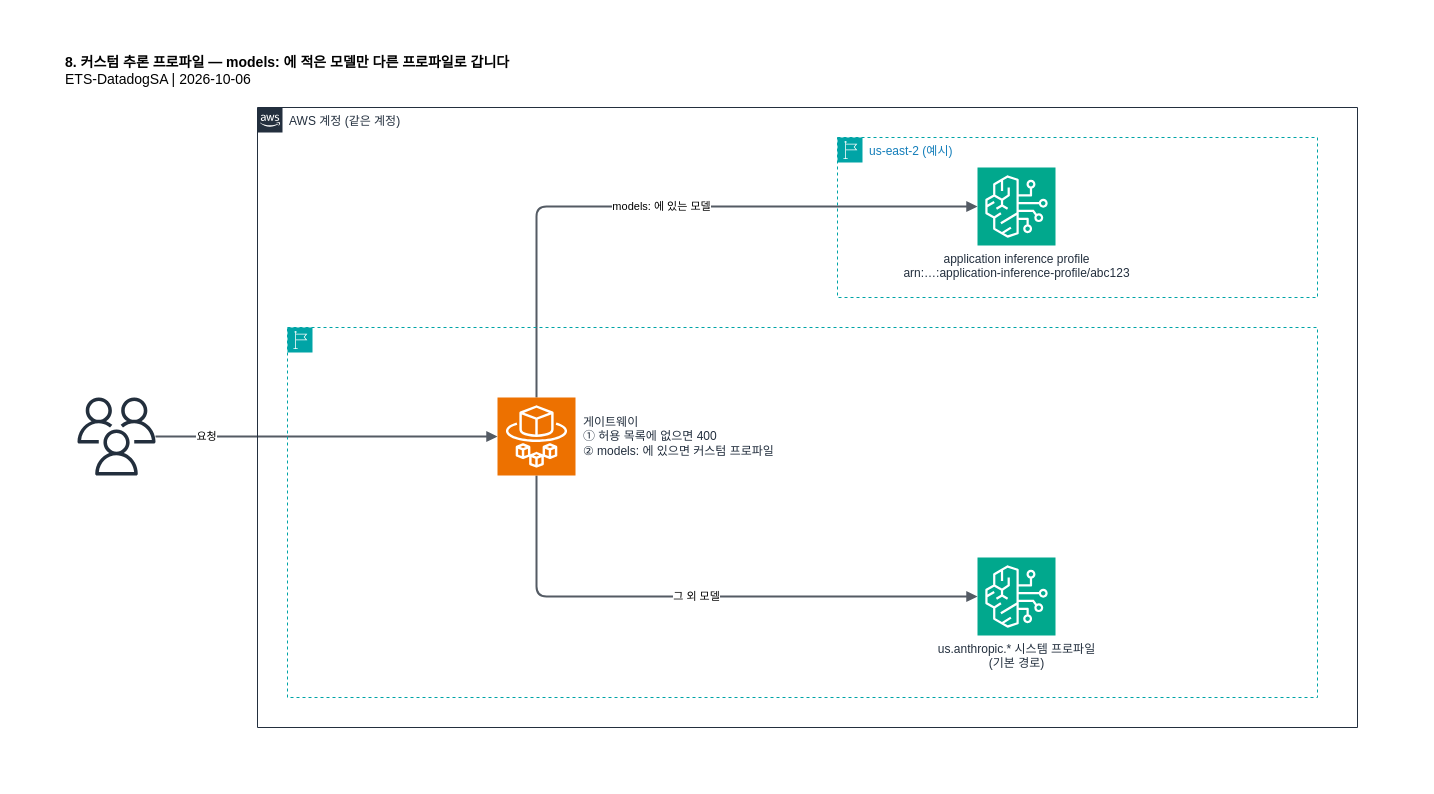
The diagram is 1434 pixels wide and 794 high, and some of its shapes have lost their labels. The shapes that lost their labels are listed below. From the top down, each one's box as (x1, y1, x2, y2) in pixels, then its label:
(77, 397, 155, 475): 개발자 Claude Code
(286, 326, 1318, 698): us-east-1 (배포 리전)
